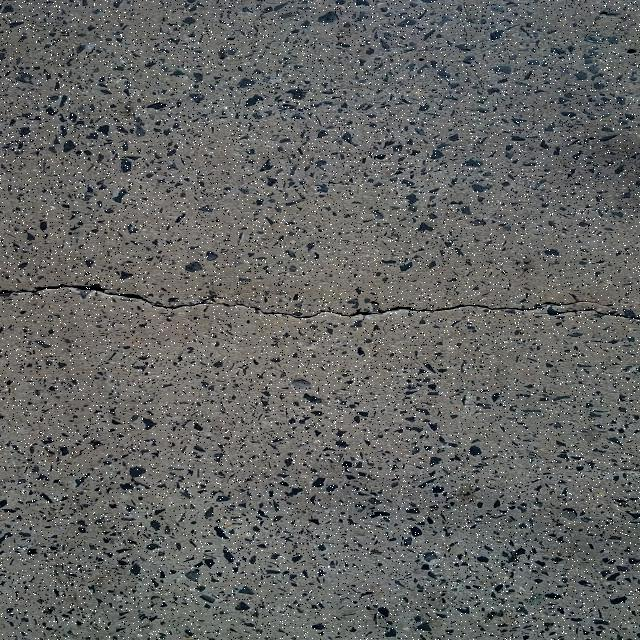Crack: (0, 283, 594, 318)
